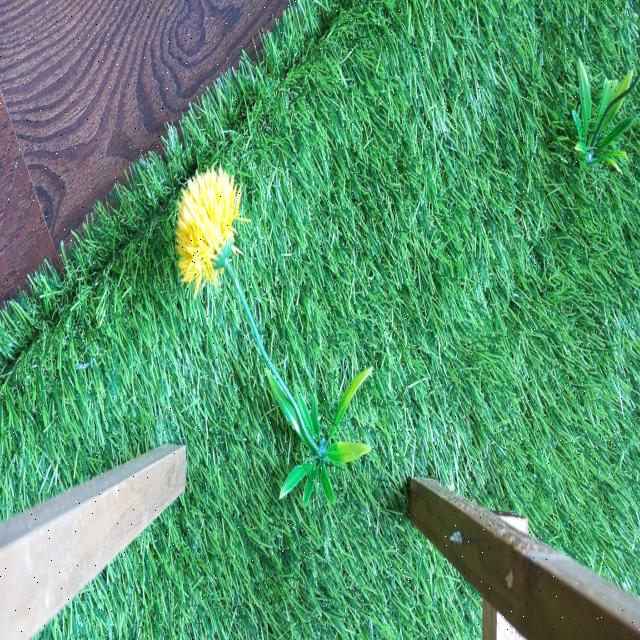base: (264, 368, 367, 508), (572, 62, 635, 171)
flower: (178, 168, 242, 286)
